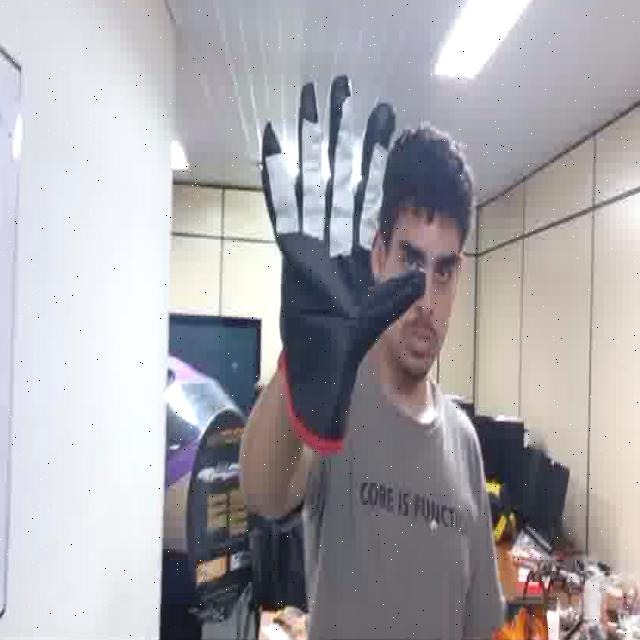Gloves: (260, 59, 428, 449)
